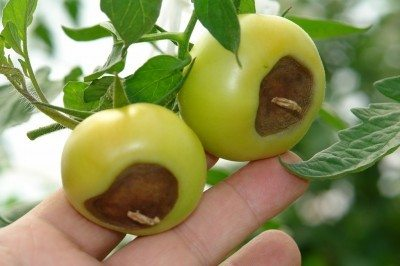blossom_rotw: (63, 153, 199, 230), (247, 41, 325, 152)
